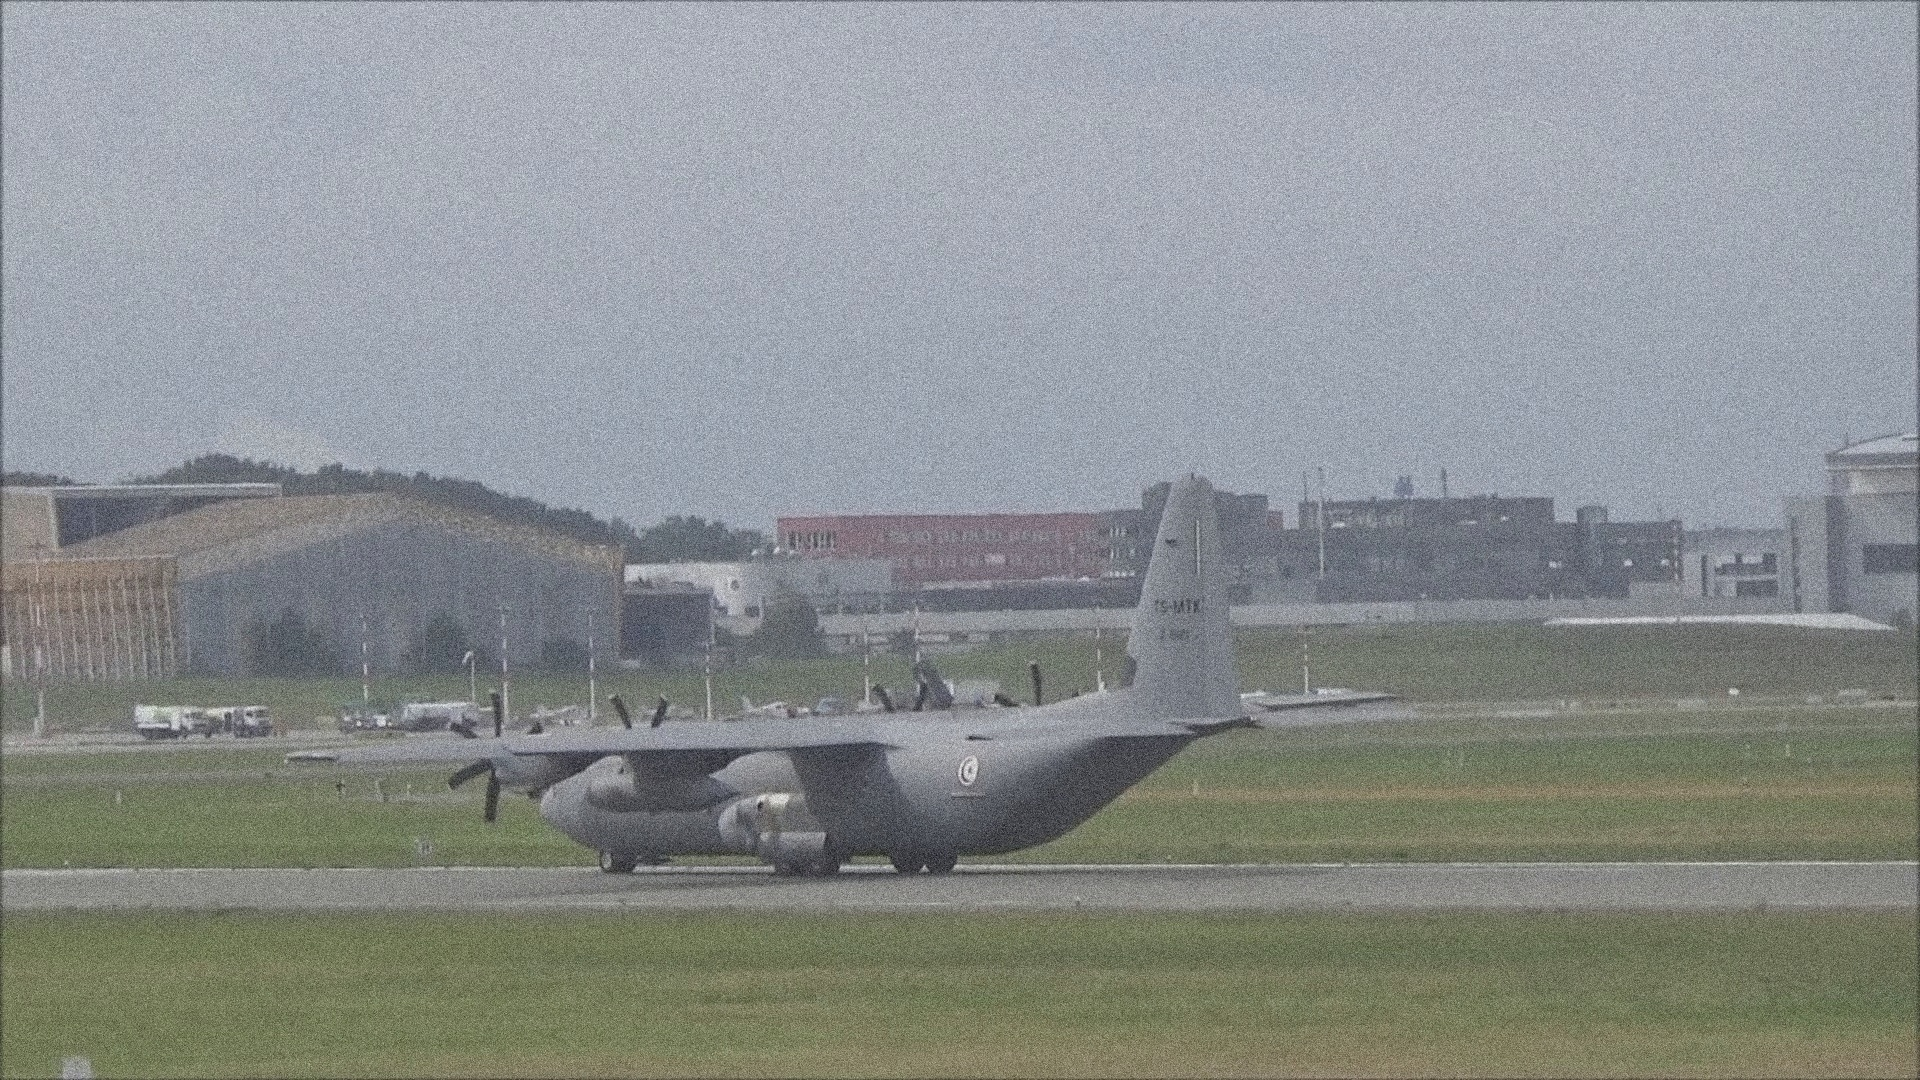Airplane: (434, 469, 1399, 884)
